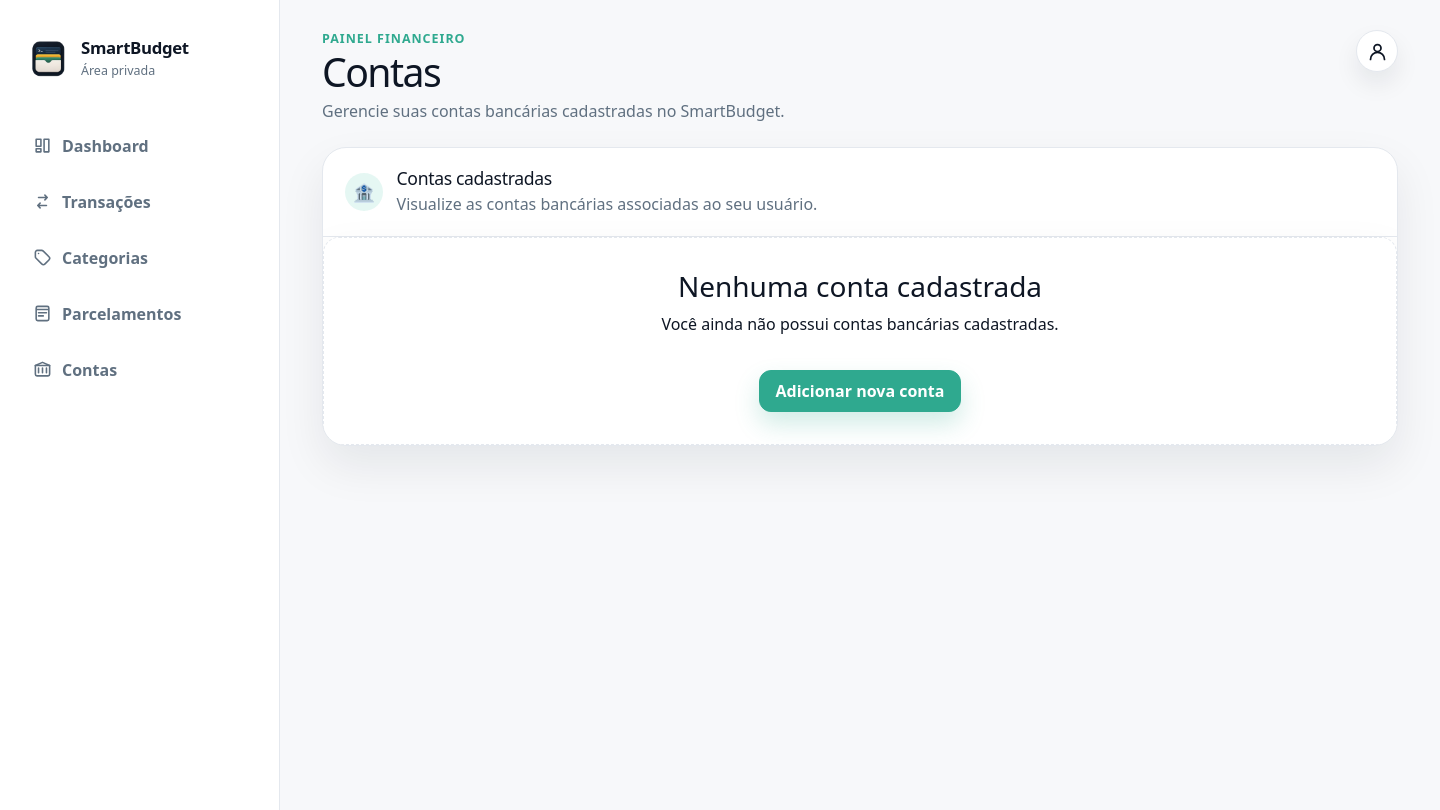
Test: Tela de Cadastro de Nova Conta Bancária (Issue #136) › deve exibir erro de validação ao tentar submeter sem banco selecionado
Click the button "Adicionar nova conta" at (860, 391), box [758,370,961,412]
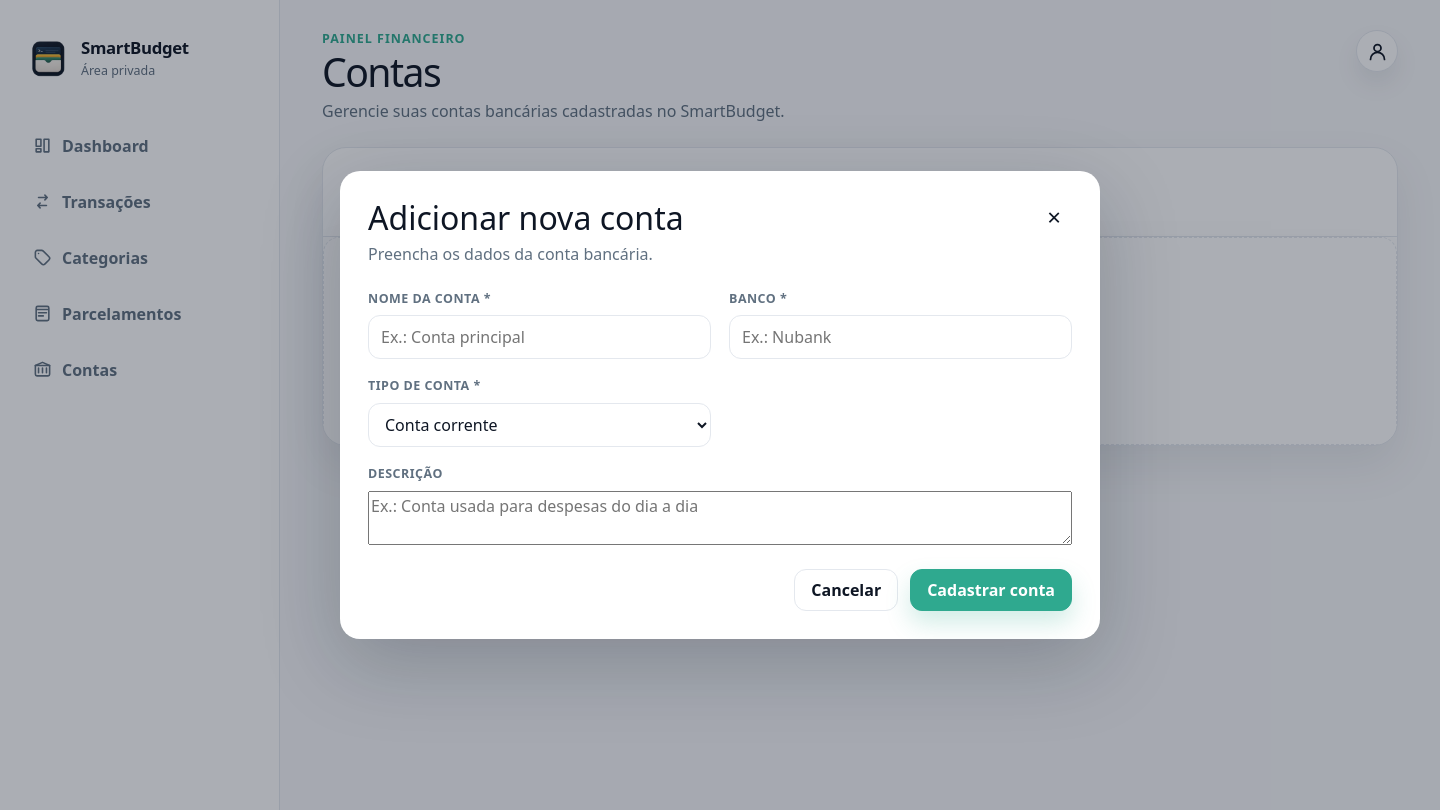
Type "Conta sem banco" into the field labelled "Nome da conta *" at (540, 337), box [368,315,711,359]
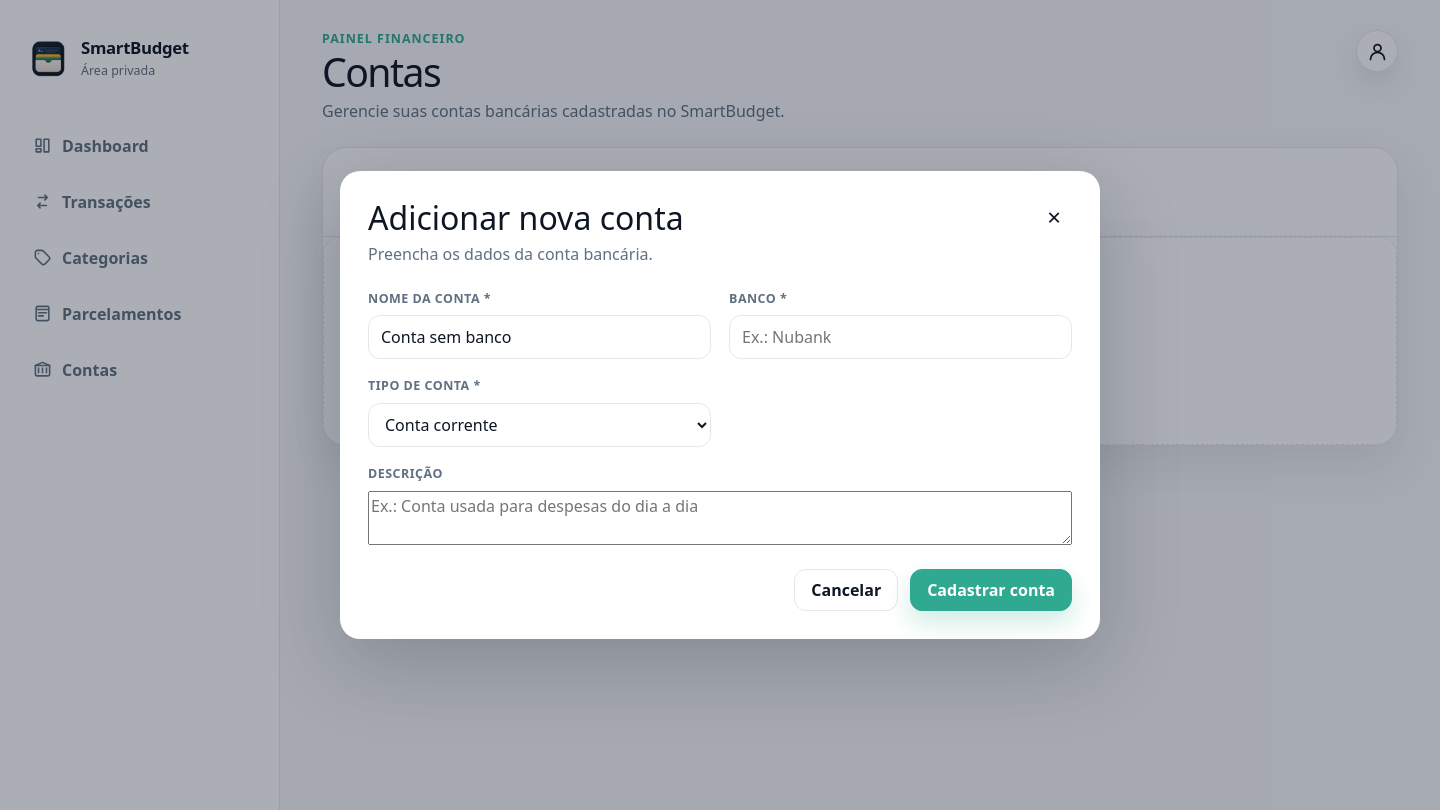
Click the button "Cadastrar conta" at (991, 590), box [910,569,1072,611]
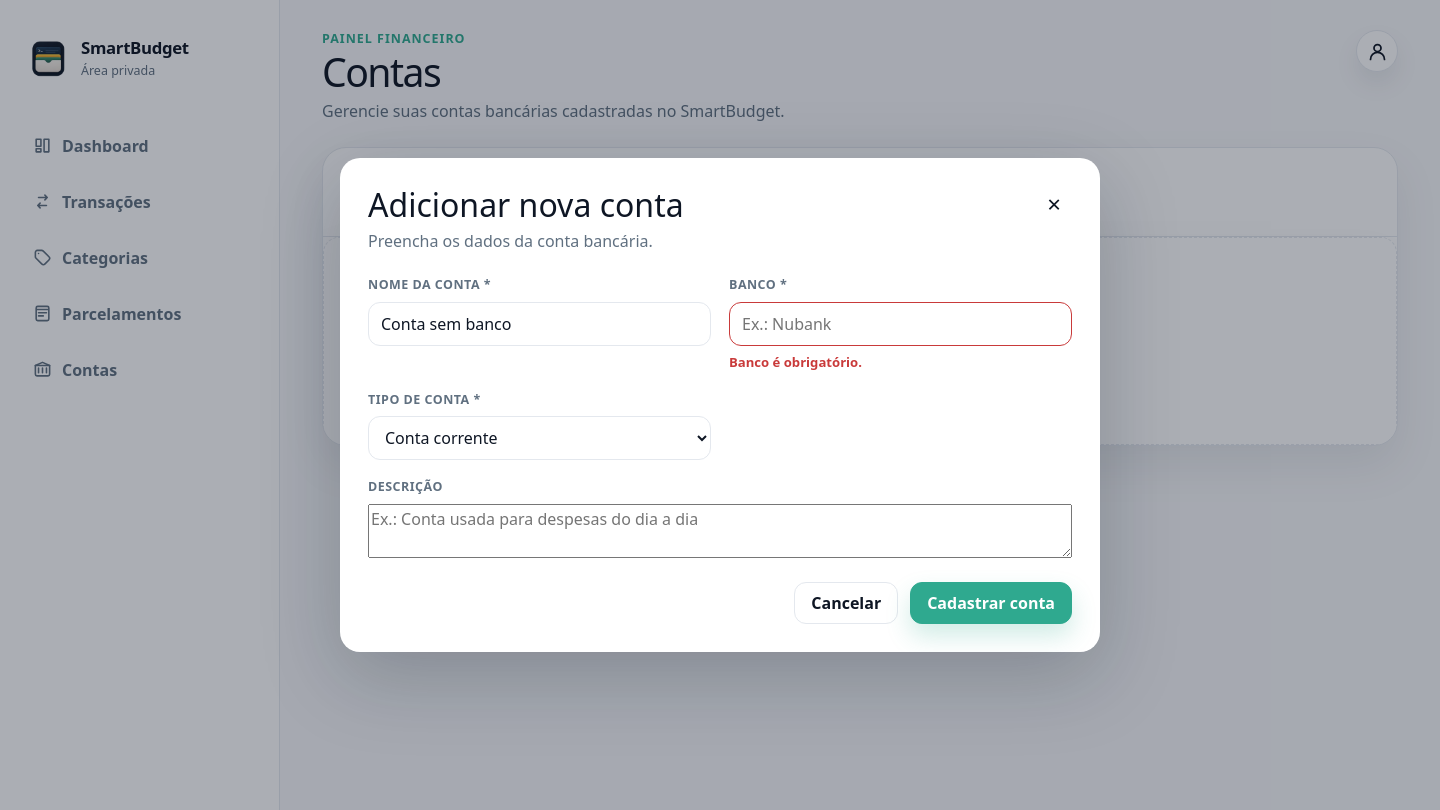
Now the text "Banco é obrigatório." is shown, box [729,353,862,371]
